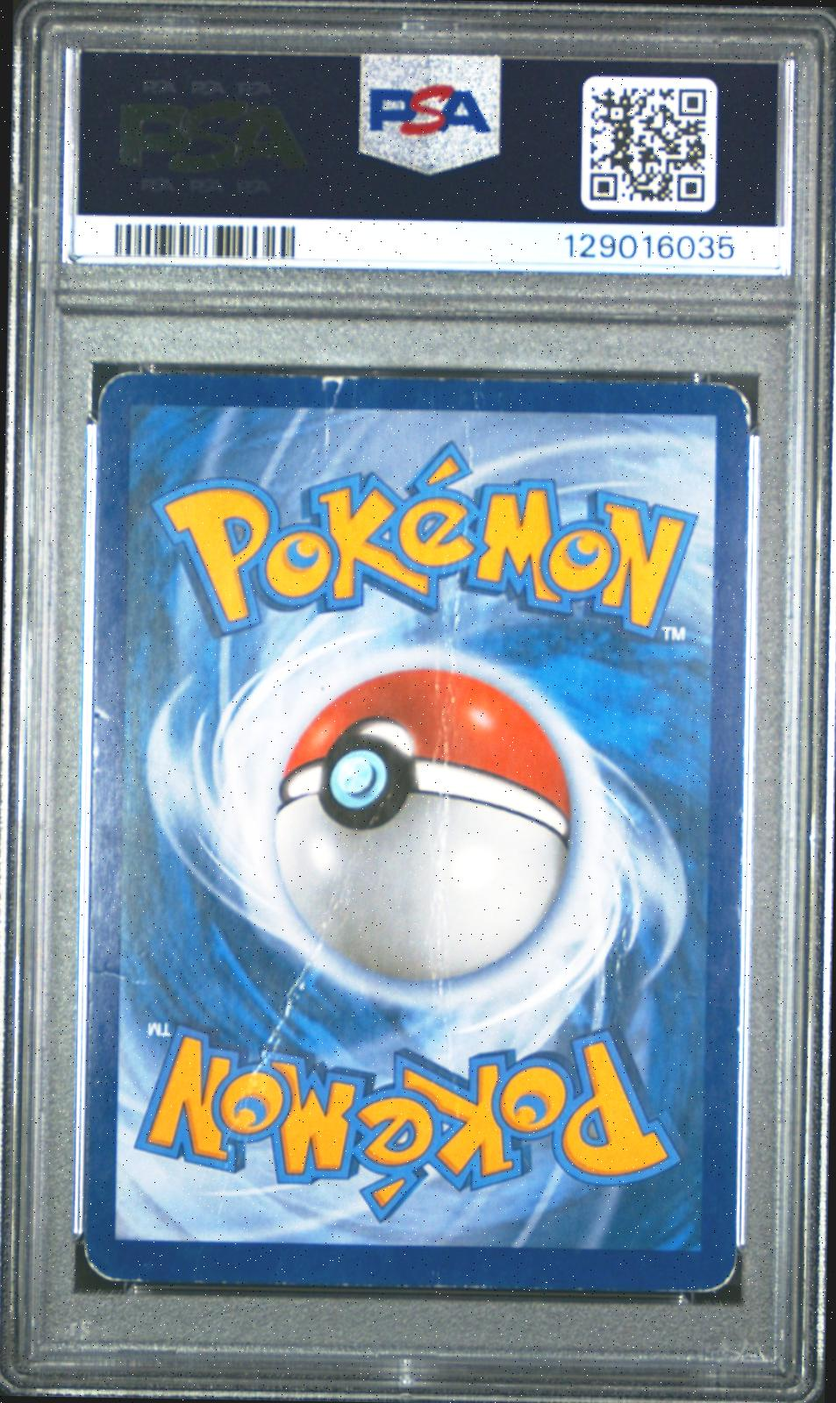card-2UtV: (83, 371, 751, 1293)
